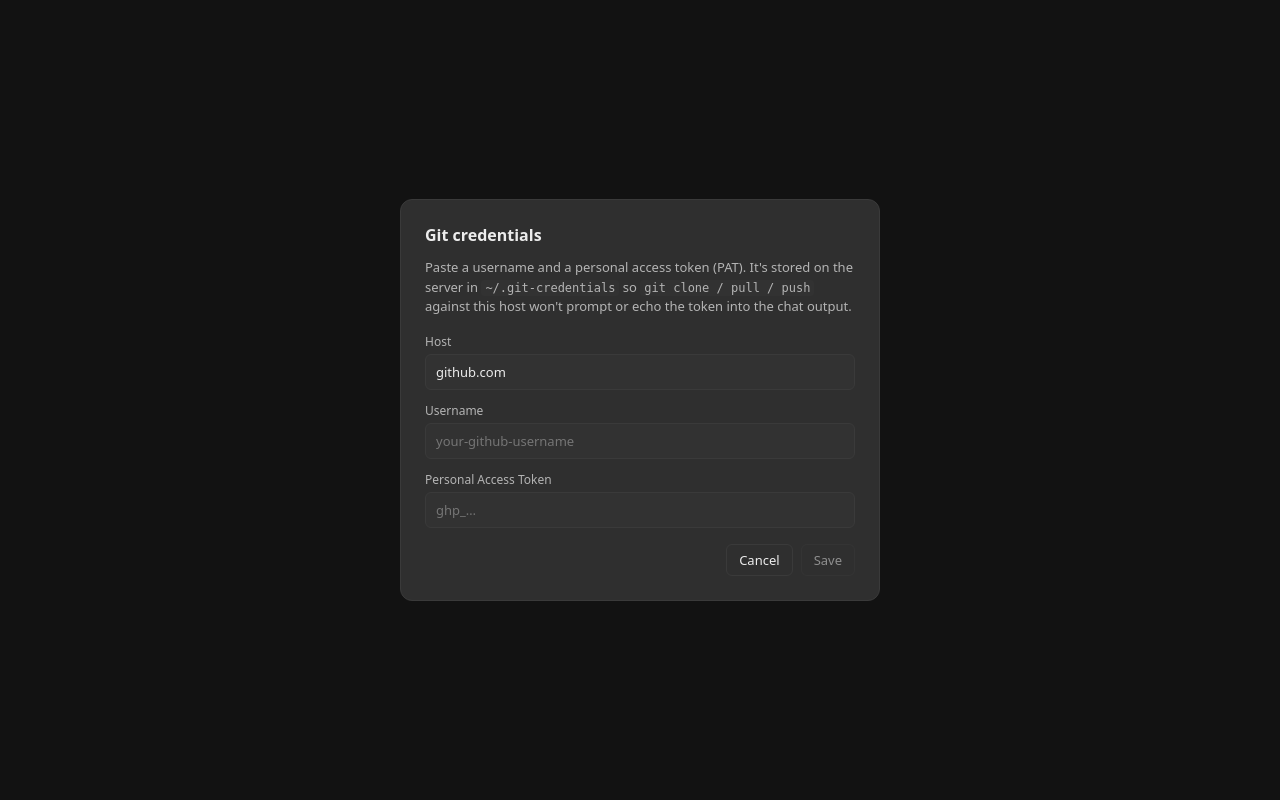
Test: GitCredentialsDialog › Save button is disabled until all fields filled
Expected: the button "Save" is disabled, [801,544,855,576]
Type "alice" into the field labelled "Username".
click(640, 441); type("alice")  # box [425,423,855,459]
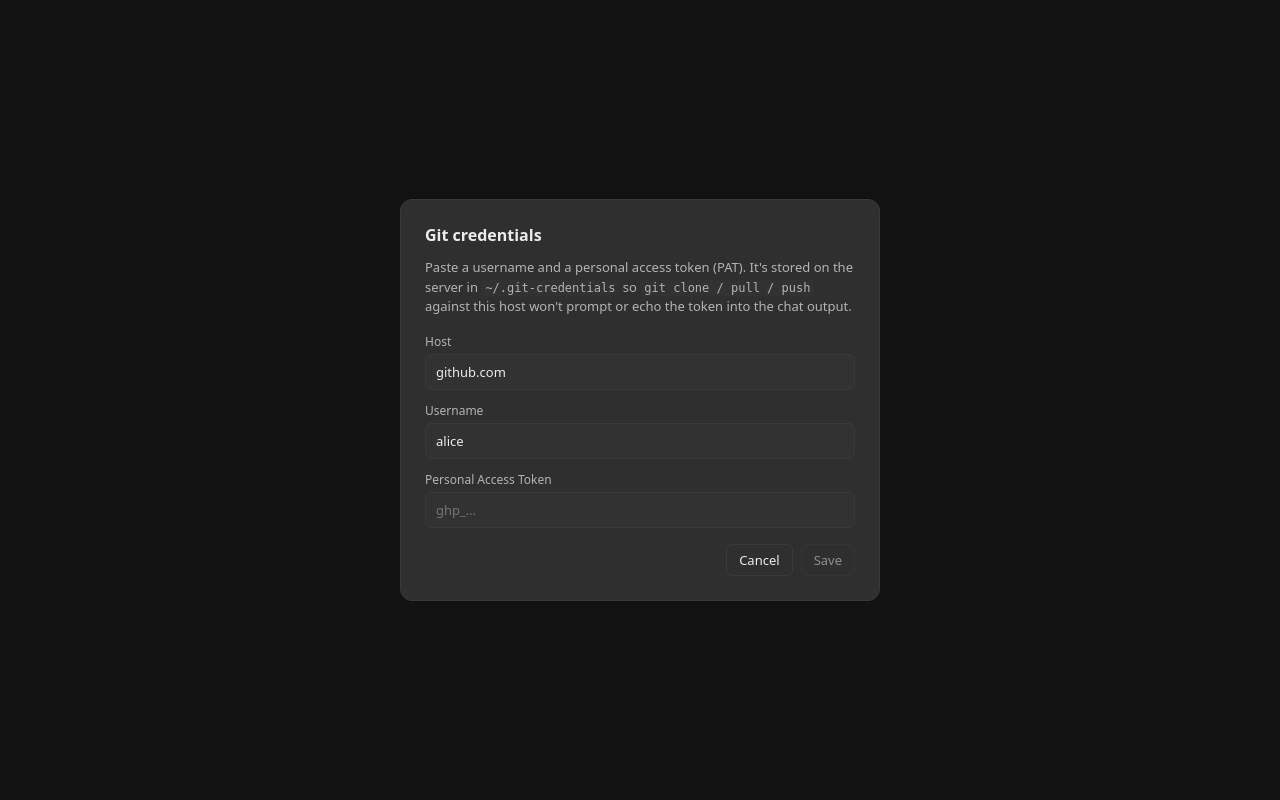
Type "ghp_x" into the password field labelled "Personal Access Token".
click(640, 510); type("ghp_x")  # box [425,492,855,528]
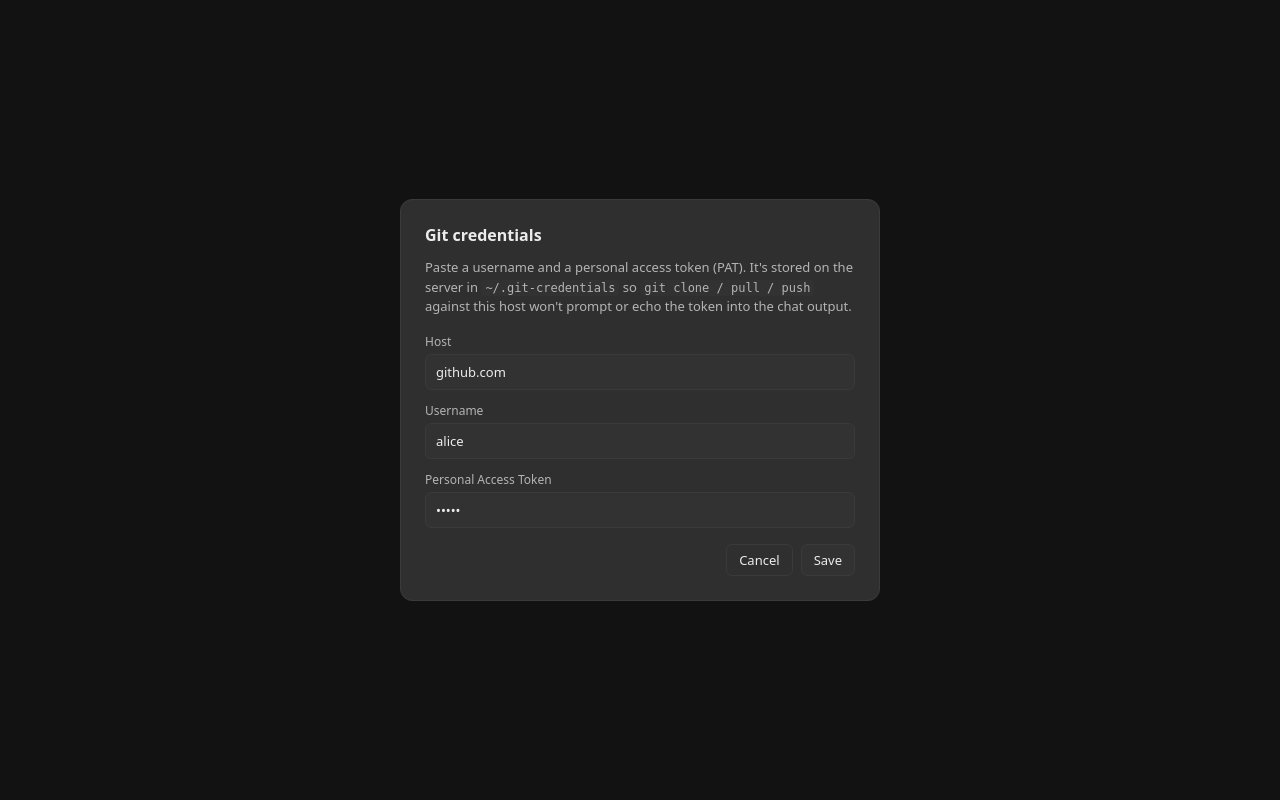
Result: the button "Save" is enabled at [801,544,855,576]
